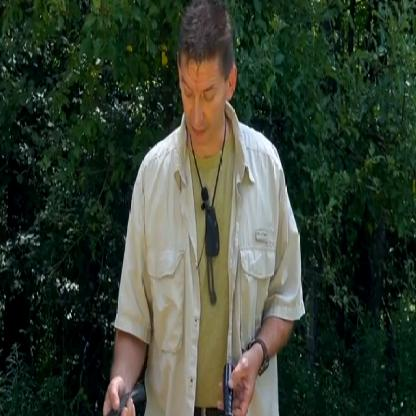knife: (65, 385, 137, 415)
